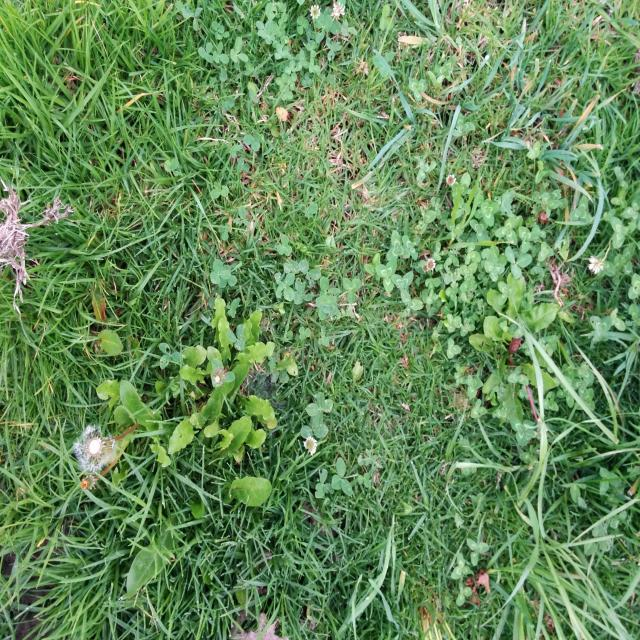Four Leaf Clover: (305, 392, 333, 428), (274, 272, 295, 302)
